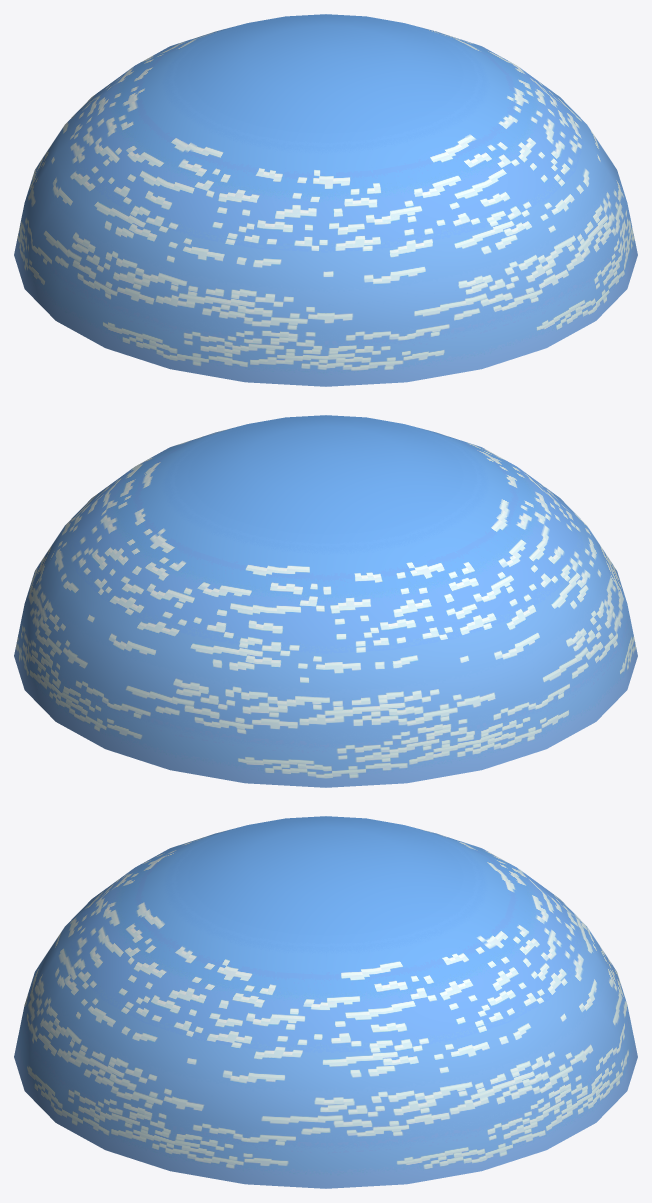
The model's file is sky_02 #558463.fbx.
3 renders of one model, top to bottom at view 1: azimuth 30°, elevation 25°; view 2: azimuth 150°, elevation 25°; view 3: azimuth 270°, elevation 25°, orthographic.
Visible parts, largest first — view 1: sky_02; view 2: sky_02; view 3: sky_02.
Part boxes in pixels (bbox=[...]): sky_02: bbox=[14, 14, 637, 386]; sky_02: bbox=[14, 415, 637, 787]; sky_02: bbox=[14, 816, 637, 1188].
Bounding box in the file's own units: 2106 × 752 × 2106.
Materials: 1 (1 with a texture image).
